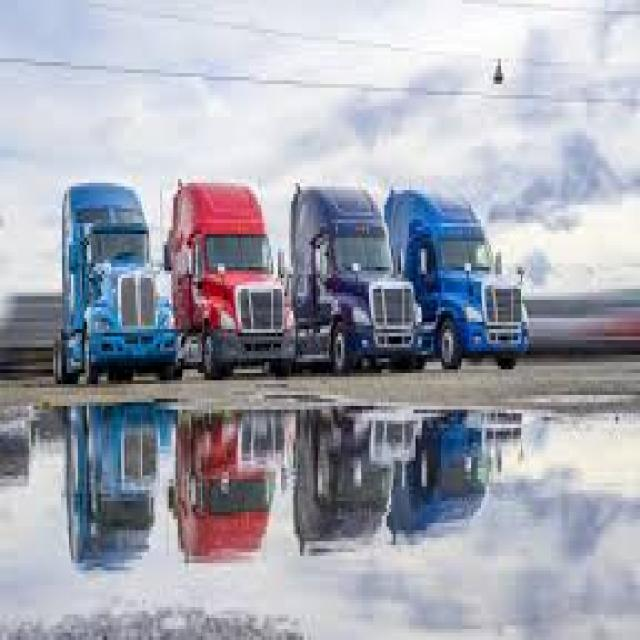truck: (267, 116, 431, 394), (368, 133, 542, 391), (40, 127, 178, 403), (162, 125, 293, 404)
